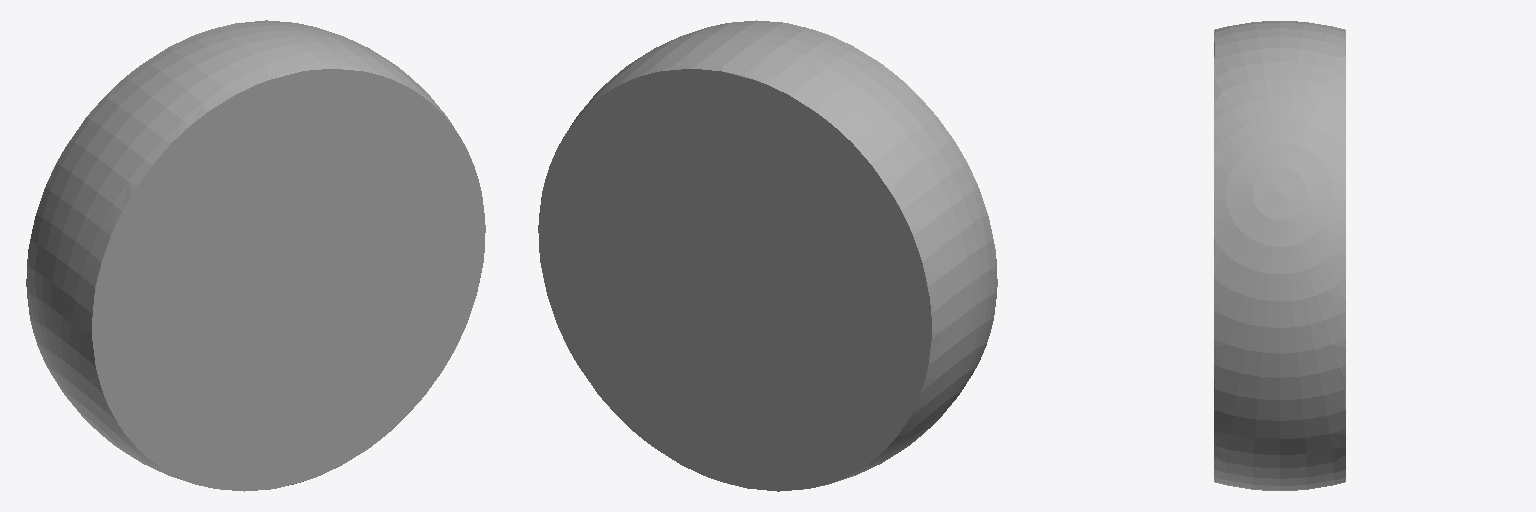
robot.urdf — diablo3:
<?xml version="1.0" encoding="utf-8"?>
<!-- This URDF was automatically created by SolidWorks to URDF Exporter! Originally created by [author] ([email redacted]) 
     Commit Version: 1.6.0-4-g7f85cfe  Build Version: 1.6.7995.38578
     For more information, please see http://wiki.ros.org/sw_urdf_exporter -->
<robot
  name="diablo3">
  <link
    name="base_link">
    <inertial>
      <origin
        xyz="0.0202140815667798 1.40860675934196E-08 0.00926648540218816"
        rpy="0 0 0" />
      <mass
        value="11.6387998941492" />
      <inertia
        ixx="0.0716281609393131"
        ixy="-5.98789886673574E-09"
        ixz="-0.000974707252310601"
        iyy="0.162741990048559"
        iyz="-1.63692555881754E-08"
        izz="0.146728487806429" />
    </inertial>
    <visual>
      <origin
        xyz="0 0 0"
        rpy="0 0 0" />
      <geometry>
        <mesh
          filename="package://diablo3/meshes/base_link.STL" />
      </geometry>
      <material
        name="">
        <color
          rgba="0.792156862745098 0.819607843137255 0.933333333333333 1" />
      </material>
    </visual>
    <collision>
      <origin
        xyz="0 0 0"
        rpy="0 0 0" />
      <geometry>
        <mesh
          filename="package://diablo3/meshes/base_link.STL" />
      </geometry>
    </collision>
  </link>
  <link
    name="left_l1">
    <inertial>
      <origin
        xyz="0.0012043 -9.954E-08 -0.066749"
        rpy="0 0 0" />
      <mass
        value="1.3837" />
      <inertia
        ixx="0.003352"
        ixy="2.7785E-09"
        ixz="-6.5913E-05"
        iyy="0.0034908"
        iyz="4.5045E-10"
        izz="0.0034856" />
    </inertial>
    <visual>
      <origin
        xyz="0 0 0"
        rpy="0 0 0" />
      <geometry>
        <mesh
          filename="package://diablo3/meshes/left_l1.STL" />
      </geometry>
      <material
        name="">
        <color
          rgba="0.62745 0.62745 0.62745 1" />
      </material>
    </visual>
    <collision>
      <origin
        xyz="0 0 0"
        rpy="0 0 0" />
      <geometry>
        <mesh
          filename="package://diablo3/meshes/left_l1.STL" />
      </geometry>
    </collision>
  </link>
  <joint
    name="left_j1"
    type="continuous">
    <origin
      xyz="0 0.18755 0"
      rpy="1.5708 0.13433 -3.1416" />
    <parent
      link="base_link" />
    <child
      link="left_l1" />
    <axis
      xyz="0 0 1" />
  </joint>
  <link
    name="left_l2">
    <inertial>
      <origin
        xyz="0.0721130779887419 0.01682459555429 -0.00800000036763027"
        rpy="0 0 0" />
      <mass
        value="0.0711029828808786" />
      <inertia
        ixx="1.66567442355692E-05"
        ixy="-5.52457534744444E-06"
        ixz="3.95980782991221E-14"
        iyy="0.000179661319225692"
        iyz="-6.54927467772431E-15"
        izz="0.000193284335905776" />
    </inertial>
    <visual>
      <origin
        xyz="0 0 0"
        rpy="0 0 0" />
      <geometry>
        <mesh
          filename="package://diablo3/meshes/left_l2.STL" />
      </geometry>
      <material
        name="">
        <color
          rgba="0.627450980392157 0.627450980392157 0.627450980392157 1" />
      </material>
    </visual>
    <collision>
      <origin
        xyz="0 0 0"
        rpy="0 0 0" />
      <geometry>
        <mesh
          filename="package://diablo3/meshes/left_l2.STL" />
      </geometry>
    </collision>
  </link>
  <joint
    name="left_j2"
    type="continuous">
    <origin
      xyz="0.09 0 0"
      rpy="0 0 -2.8729" />
    <parent
      link="left_l1" />
    <child
      link="left_l2" />
    <axis
      xyz="0 0 1" />
  </joint>
  <link
    name="left_l3">
    <inertial>
      <origin
        xyz="0.00238050756372024 7.21054200153448E-07 0.0123486176023827"
        rpy="0 0 0" />
      <mass
        value="0.182175185739216" />
      <inertia
        ixx="4.13718846558144E-05"
        ixy="5.14447597010158E-09"
        ixz="-7.36592750171961E-06"
        iyy="0.00048219187416367"
        iyz="2.55210567271406E-11"
        izz="0.000504412388309308" />
    </inertial>
    <visual>
      <origin
        xyz="0 0 0"
        rpy="0 0 0" />
      <geometry>
        <mesh
          filename="package://diablo3/meshes/left_l3.STL" />
      </geometry>
      <material
        name="">
        <color
          rgba="0.627450980392157 0.627450980392157 0.627450980392157 1" />
      </material>
    </visual>
    <collision>
      <origin
        xyz="0 0 0"
        rpy="0 0 0" />
      <geometry>
        <mesh
          filename="package://diablo3/meshes/left_l3.STL" />
      </geometry>
    </collision>
  </link>
  <joint
    name="left_j3"
    type="continuous">
    <origin
      xyz="0.14 0 0"
      rpy="0 0 2.8729" />
    <parent
      link="left_l2" />
    <child
      link="left_l3" />
    <axis
      xyz="0 0 1" />
  </joint>
  <link
    name="left_lwheel">
    <inertial>
      <origin
        xyz="1.73585311680213E-08 -1.51640991430391E-10 5.07914291181244E-09"
        rpy="0 0 0" />
      <mass
        value="2.9494128507137" />
      <inertia
        ixx="0.00693376841328276"
        ixy="2.86933969590788E-09"
        ixz="4.67792007962852E-09"
        iyy="0.00693403452549674"
        iyz="-5.04409850647164E-11"
        izz="0.0125668642106595" />
    </inertial>
    <visual>
      <origin
        xyz="0 0 0"
        rpy="0 0 0" />
      <geometry>
        <mesh
          filename="package://diablo3/meshes/left_lwheel.STL" />
      </geometry>
      <material
        name="">
        <color
          rgba="0.698039215686274 0.698039215686274 0.698039215686274 1" />
      </material>
    </visual>
    <collision>
      <origin
        xyz="0 0 0"
        rpy="0 0 0" />
      <geometry>
        <mesh
          filename="package://diablo3/meshes/left_lwheel.STL" />
      </geometry>
    </collision>
  </link>
  <joint
    name="left_j4"
    type="continuous">
    <origin
      xyz="0.05 0 0.0537"
      rpy="0 0 0.13433" />
    <parent
      link="left_l3" />
    <child
      link="left_lwheel" />
    <axis
      xyz="0 0 1" />
  </joint>
  <link
    name="right_l1">
    <inertial>
      <origin
        xyz="0.00120442171894708 1.82033374290791E-07 0.0667492997189435"
        rpy="0 0 0" />
      <mass
        value="1.3837507092777" />
      <inertia
        ixx="0.00335200213224034"
        ixy="-2.65270599057862E-09"
        ixz="6.59140168852186E-05"
        iyy="0.00349076720121641"
        iyz="-7.29676247721929E-10"
        izz="0.00348558185976986" />
    </inertial>
    <visual>
      <origin
        xyz="0 0 0"
        rpy="0 0 0" />
      <geometry>
        <mesh
          filename="package://diablo3/meshes/right_l1.STL" />
      </geometry>
      <material
        name="">
        <color
          rgba="0.627450980392157 0.627450980392157 0.627450980392157 1" />
      </material>
    </visual>
    <collision>
      <origin
        xyz="0 0 0"
        rpy="0 0 0" />
      <geometry>
        <mesh
          filename="package://diablo3/meshes/right_l1.STL" />
      </geometry>
    </collision>
  </link>
  <joint
    name="right_j1"
    type="continuous">
    <origin
      xyz="0 -0.18755 0"
      rpy="1.5708 0.13433 3.1416" />
    <parent
      link="base_link" />
    <child
      link="right_l1" />
    <axis
      xyz="0 0 1" />
  </joint>
  <link
    name="right_l2">
    <inertial>
      <origin
        xyz="0.072113077959871 0.0168245955229767 0.00800000046295368"
        rpy="0 0 0" />
      <mass
        value="0.0711029828808784" />
      <inertia
        ixx="1.66567442356654E-05"
        ixy="-5.52457534886535E-06"
        ixz="1.48515365195649E-14"
        iyy="0.000179661319225595"
        iyz="-6.51944033382986E-14"
        izz="0.000193284335905776" />
    </inertial>
    <visual>
      <origin
        xyz="0 0 0"
        rpy="0 0 0" />
      <geometry>
        <mesh
          filename="package://diablo3/meshes/right_l2.STL" />
      </geometry>
      <material
        name="">
        <color
          rgba="0.627450980392157 0.627450980392157 0.627450980392157 1" />
      </material>
    </visual>
    <collision>
      <origin
        xyz="0 0 0"
        rpy="0 0 0" />
      <geometry>
        <mesh
          filename="package://diablo3/meshes/right_l2.STL" />
      </geometry>
    </collision>
  </link>
  <joint
    name="right_j2"
    type="continuous">
    <origin
      xyz="0.09 0 0"
      rpy="0 0 -2.8729" />
    <parent
      link="right_l1" />
    <child
      link="right_l2" />
    <axis
      xyz="0 0 1" />
  </joint>
  <link
    name="right_l3">
    <inertial>
      <origin
        xyz="0.00238050845323953 7.2065863047921E-07 -0.012348620327408"
        rpy="0 0 0" />
      <mass
        value="0.182175193686457" />
      <inertia
        ixx="4.13718909207856E-05"
        ixy="5.17773898654552E-09"
        ixz="7.36593334622795E-06"
        iyy="0.000482191874666909"
        iyz="4.52779003458213E-11"
        izz="0.000504412395581499" />
    </inertial>
    <visual>
      <origin
        xyz="0 0 0"
        rpy="0 0 0" />
      <geometry>
        <mesh
          filename="package://diablo3/meshes/right_l3.STL" />
      </geometry>
      <material
        name="">
        <color
          rgba="0.627450980392157 0.627450980392157 0.627450980392157 1" />
      </material>
    </visual>
    <collision>
      <origin
        xyz="0 0 0"
        rpy="0 0 0" />
      <geometry>
        <mesh
          filename="package://diablo3/meshes/right_l3.STL" />
      </geometry>
    </collision>
  </link>
  <joint
    name="right_j3"
    type="continuous">
    <origin
      xyz="0.14 0 0"
      rpy="0 0 2.8729" />
    <parent
      link="right_l2" />
    <child
      link="right_l3" />
    <axis
      xyz="0 0 1" />
  </joint>
  <link
    name="right_wheel">
    <inertial>
      <origin
        xyz="-1.1211399975064E-08 -1.34601574747206E-08 5.07931696702713E-09"
        rpy="0 0 0" />
      <mass
        value="2.9494128507137" />
      <inertia
        ixx="0.0069339222205159"
        ixy="-1.31459314919733E-07"
        ixz="-3.03916676543132E-09"
        iyy="0.00693388071826362"
        iyz="-3.57556715428068E-09"
        izz="0.0125668642106595" />
    </inertial>
    <visual>
      <origin
        xyz="0 0 0"
        rpy="0 0 0" />
      <geometry>
        <mesh
          filename="package://diablo3/meshes/right_wheel.STL" />
      </geometry>
      <material
        name="">
        <color
          rgba="0.698039215686274 0.698039215686274 0.698039215686274 1" />
      </material>
    </visual>
    <collision>
      <origin
        xyz="0 0 0"
        rpy="0 0 0" />
      <geometry>
        <mesh
          filename="package://diablo3/meshes/right_wheel.STL" />
      </geometry>
    </collision>
  </link>
  <joint
    name="right_j4"
    type="continuous">
    <origin
      xyz="0.05 0 -0.0537"
      rpy="0 0 -3.0073" />
    <parent
      link="right_l3" />
    <child
      link="right_wheel" />
    <axis
      xyz="0 0 1" />
  </joint>
</robot>

--- What the picture shows (computed from the rendered views, not written in the file) ---
3 views of the same robot in one strip: view 1: azimuth 30°, elevation 25°; view 2: azimuth 150°, elevation 25°; view 3: azimuth 270°, elevation 25° (orthographic).
Robot: diablo3 — 9 links, 8 joints (8 continuous); root link base_link; default pose: all joints at 0.
Links seen in each view (by area): view 1: right_wheel; view 2: right_wheel; view 3: right_wheel.
Link boxes in pixels (left/top/right/bottom): right_wheel: left=26, top=20, right=485, bottom=491; right_wheel: left=538, top=20, right=997, bottom=491; right_wheel: left=1214, top=21, right=1345, bottom=490.
Size in the robot's own frame: 0.187 by 0.052 by 0.1868 metres.
1 mesh visuals loaded from 9 distinct referenced files (1 binary STL); not drawn: 8 (reference not matched to a file when rendering).